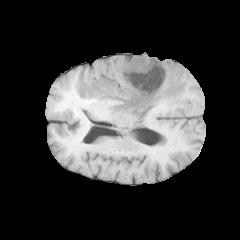glioma: (85, 54, 187, 119)
